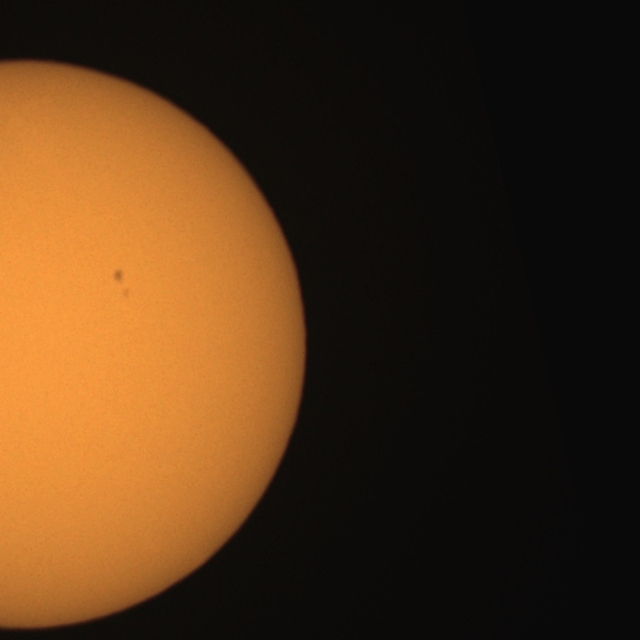sunspot: (112, 268, 131, 300), (111, 268, 126, 286)
